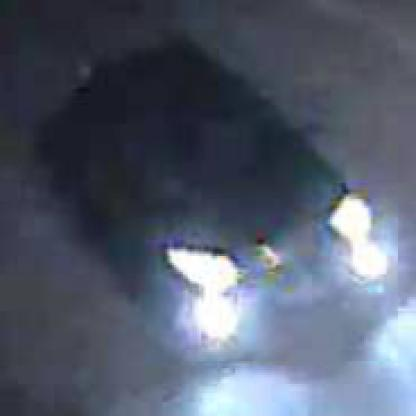car: (22, 31, 402, 364)
